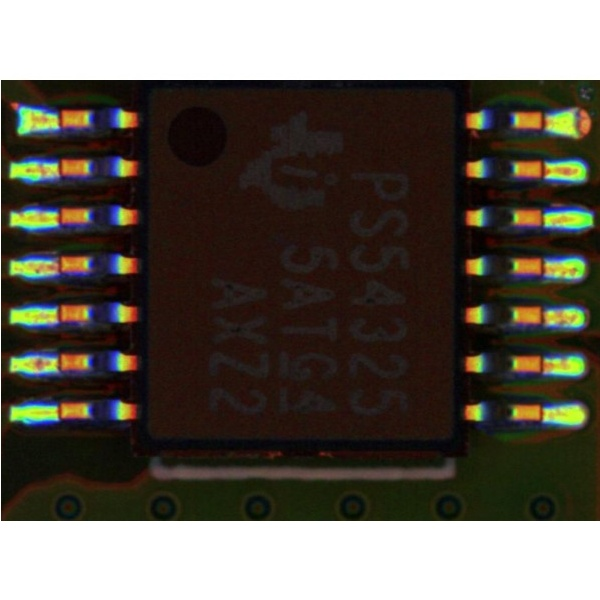Bad_podu: (532, 261, 558, 272), (50, 255, 66, 271), (532, 164, 555, 175), (51, 208, 65, 226), (530, 359, 555, 369)
